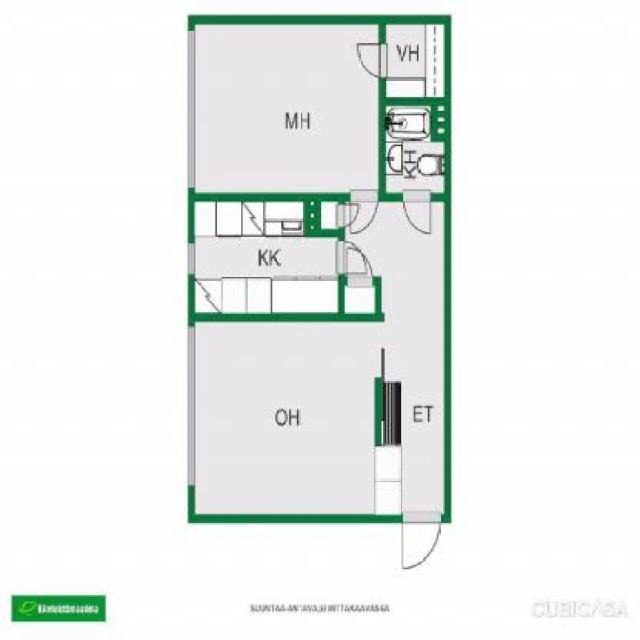door: (404, 511, 442, 572), (402, 188, 432, 238), (349, 190, 378, 232), (354, 43, 388, 77), (348, 249, 375, 291), (336, 238, 364, 272), (332, 197, 358, 226)
window: (188, 326, 195, 486), (188, 29, 195, 186), (188, 242, 195, 276)
zone: (195, 200, 443, 515), (195, 23, 377, 192), (195, 201, 340, 314), (388, 106, 443, 192), (384, 20, 444, 98)
